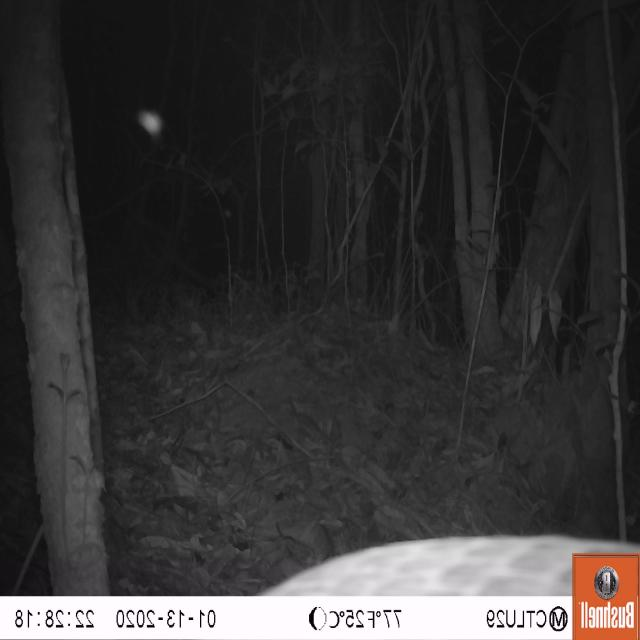Armadillo: (253, 528, 572, 593)
